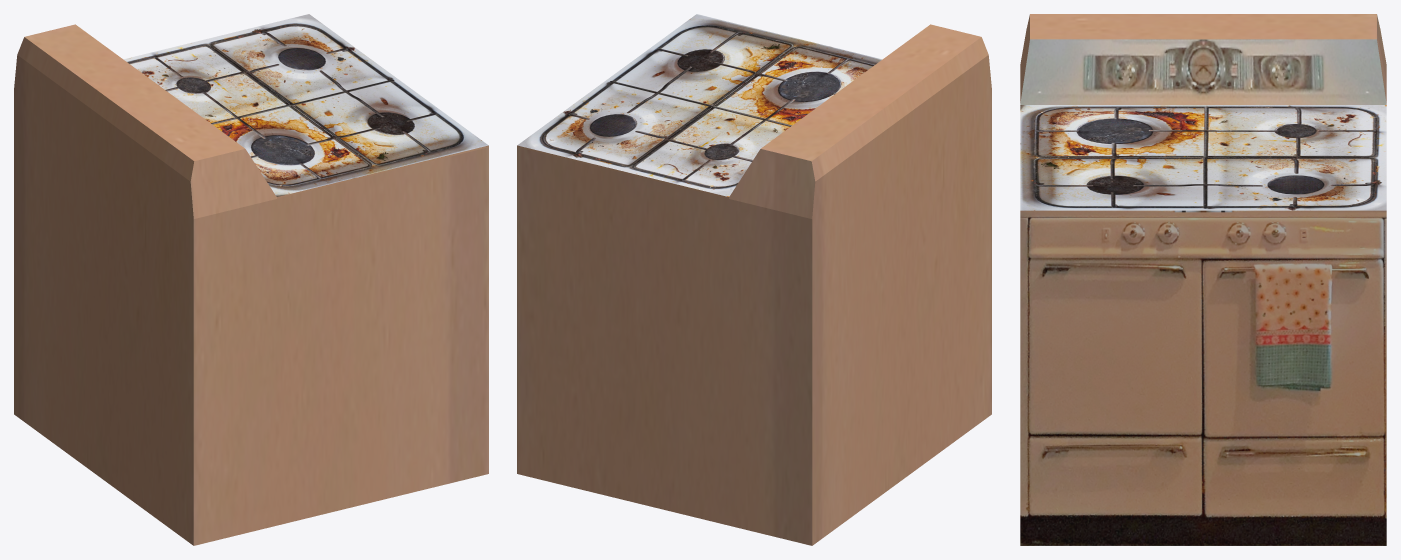
3 renders of one model, left to right at view 1: azimuth 30°, elevation 25°; view 2: azimuth 150°, elevation 25°; view 3: azimuth 270°, elevation 25°, orthographic. The views are drawn at different scales.
Parts seen in each view (by area): view 1: Cube; view 2: Cube; view 3: Cube.
Part boxes in pixels (left/top/right/bottom): Cube: left=14, top=14, right=488, bottom=545; Cube: left=517, top=14, right=991, bottom=545; Cube: left=1020, top=14, right=1386, bottom=545.
Size of the model in its own units: 2.18 by 2.68 by 2.3.
1 material, 1 textured.
